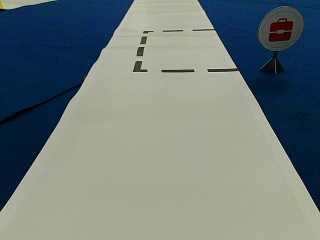company: (258, 6, 304, 49)
